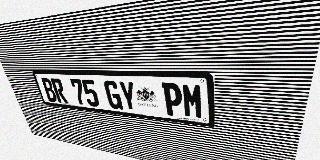5: (81, 79, 100, 107)
7: (69, 79, 88, 106)
B: (40, 78, 58, 102)
G: (103, 80, 123, 110)
M: (181, 83, 204, 119)
P: (161, 82, 183, 117)
R: (50, 78, 68, 104)
Y: (118, 81, 138, 112)
